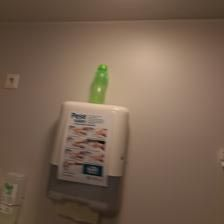bottle: (87, 60, 108, 108)
